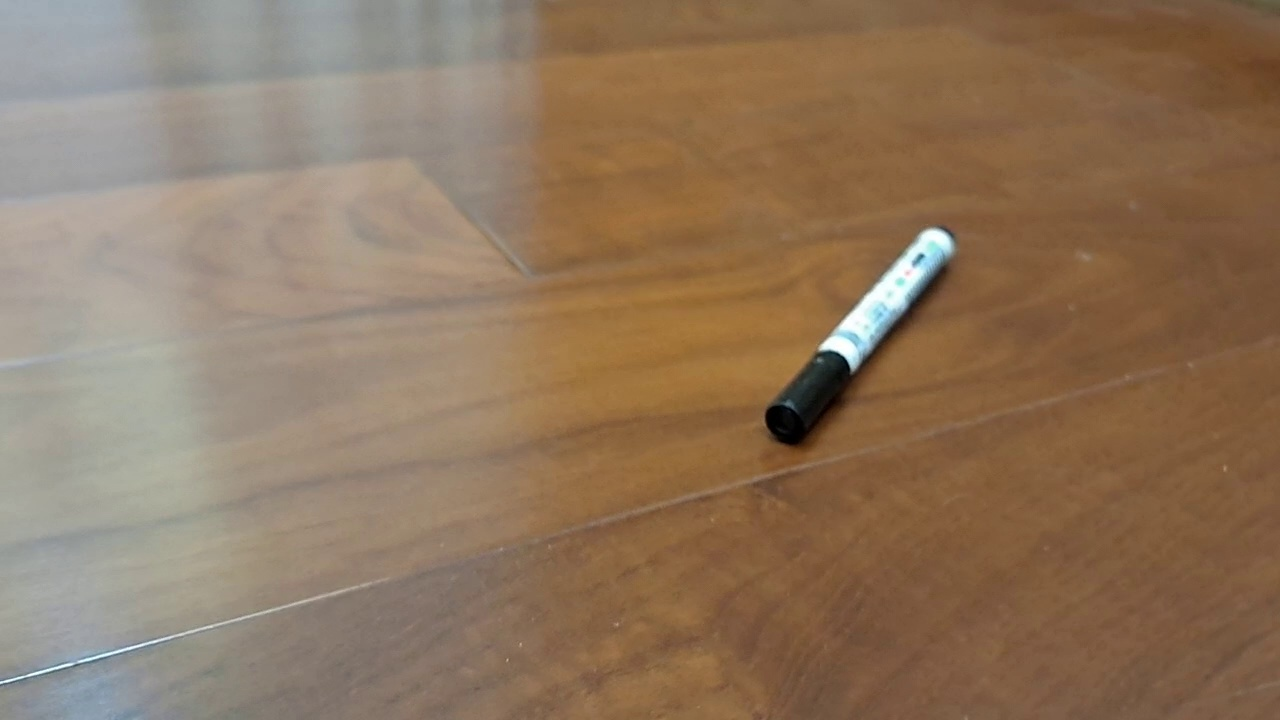pen: (765, 223, 959, 445)
